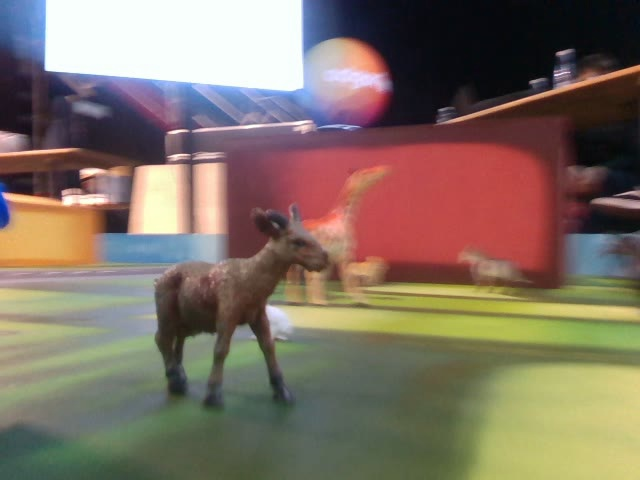toy: (144, 194, 333, 413)
